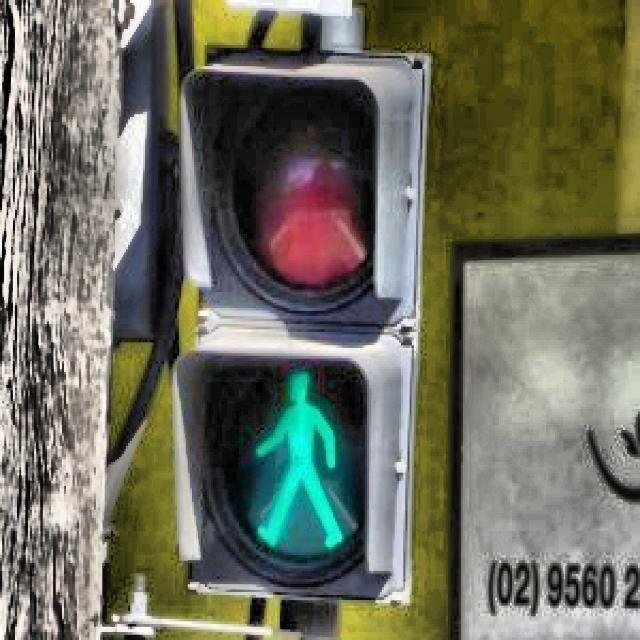green_light: (252, 370, 348, 555)
